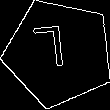L_S: (40, 26, 77, 80)
